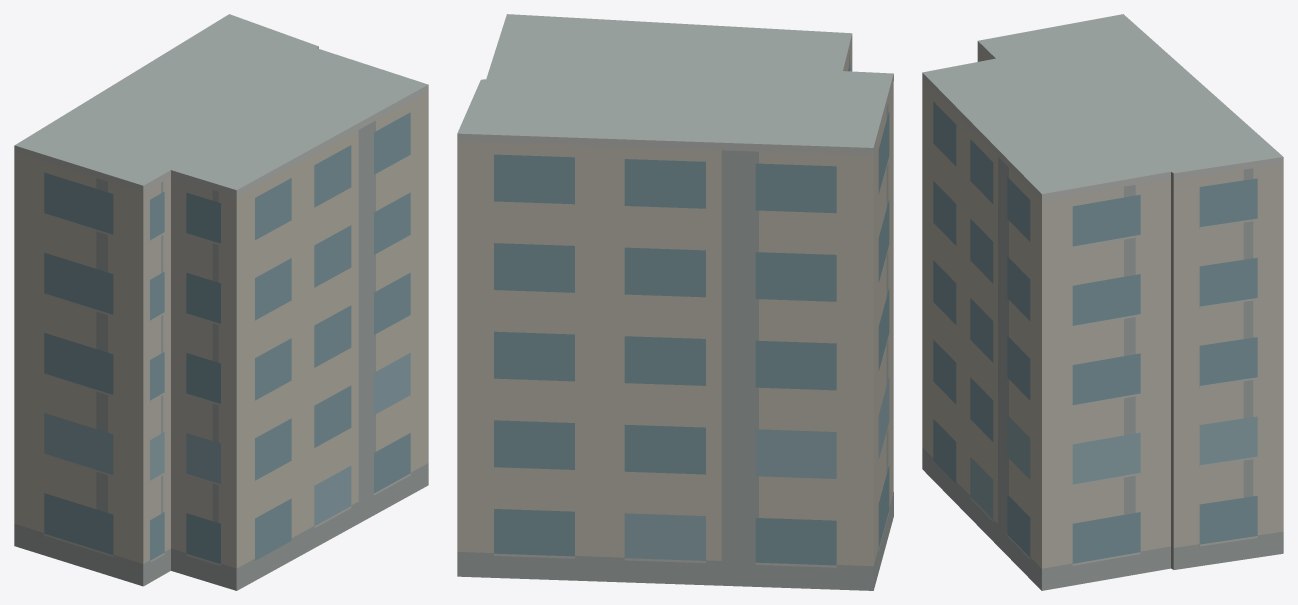
Rendered from survey-upis-32950250.glb.
3 renders of one model, left to right at view 1: azimuth 30°, elevation 25°; view 2: azimuth 150°, elevation 25°; view 3: azimuth 270°, elevation 25°, orthographic. The views are drawn at different scales.
Visible parts, largest first — view 1: survey-upis-32950250.tmp; view 2: survey-upis-32950250.tmp; view 3: survey-upis-32950250.tmp.
Part boxes in pixels (x1,y1,x2,y2): survey-upis-32950250.tmp: [14, 14, 428, 590]; survey-upis-32950250.tmp: [457, 14, 893, 590]; survey-upis-32950250.tmp: [922, 14, 1283, 590].
Bounding box in the file's own units: 13.84 × 14.2 × 11.73.
